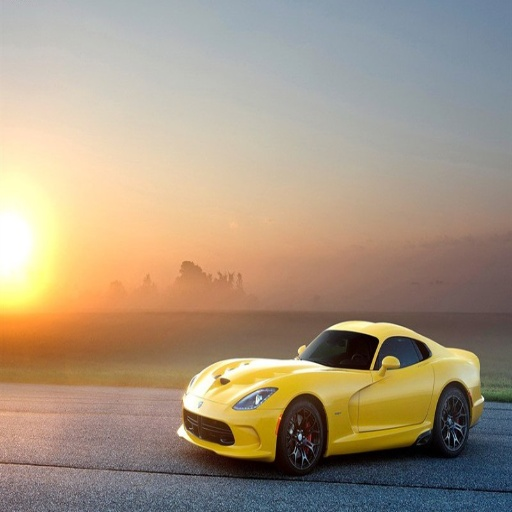front_bumper: (187, 400, 267, 458)
front_glass: (307, 330, 358, 362)
front_left_door: (353, 333, 418, 434)
